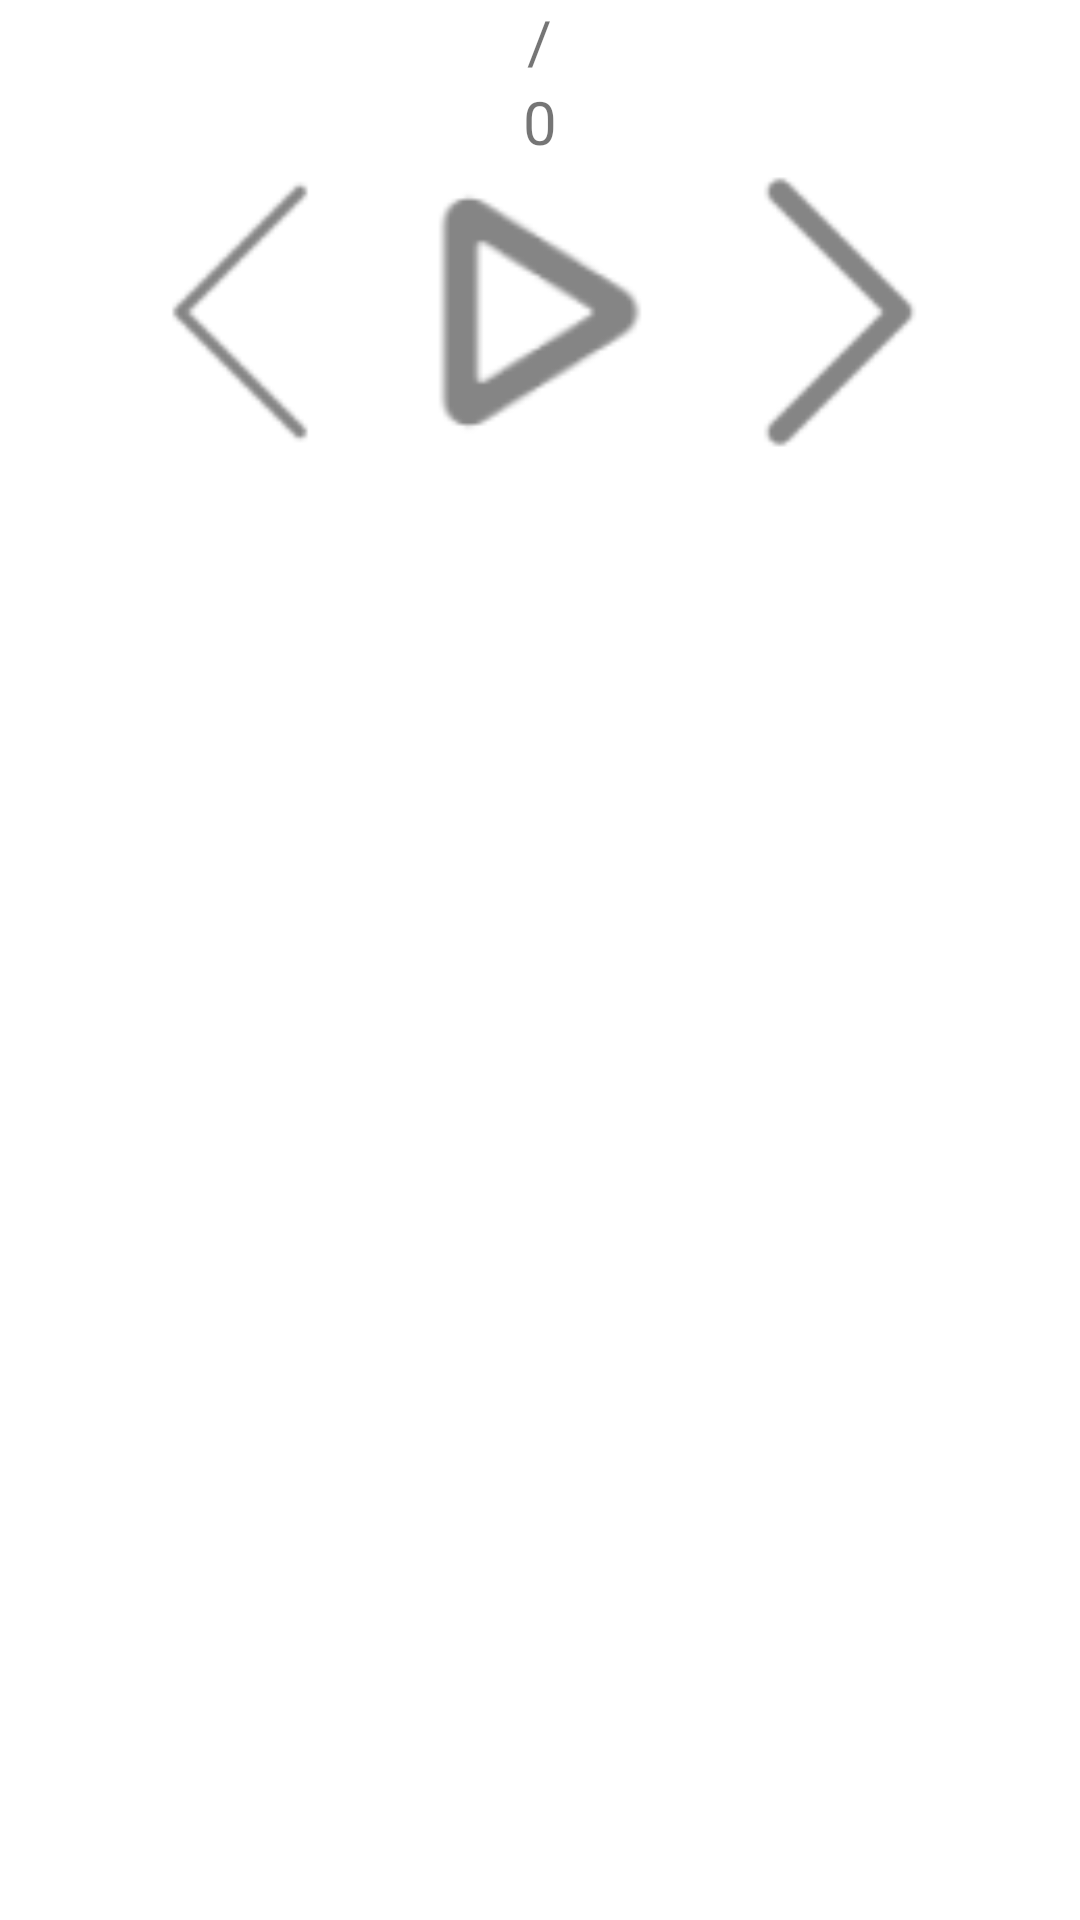

Icon bounding boxes for this 1080px×1920px phone screenshot, format (x1, y1, x2, y2):
forward button: (766, 178, 914, 446)
play button: (441, 197, 640, 426)
prev button: (173, 185, 308, 439)
